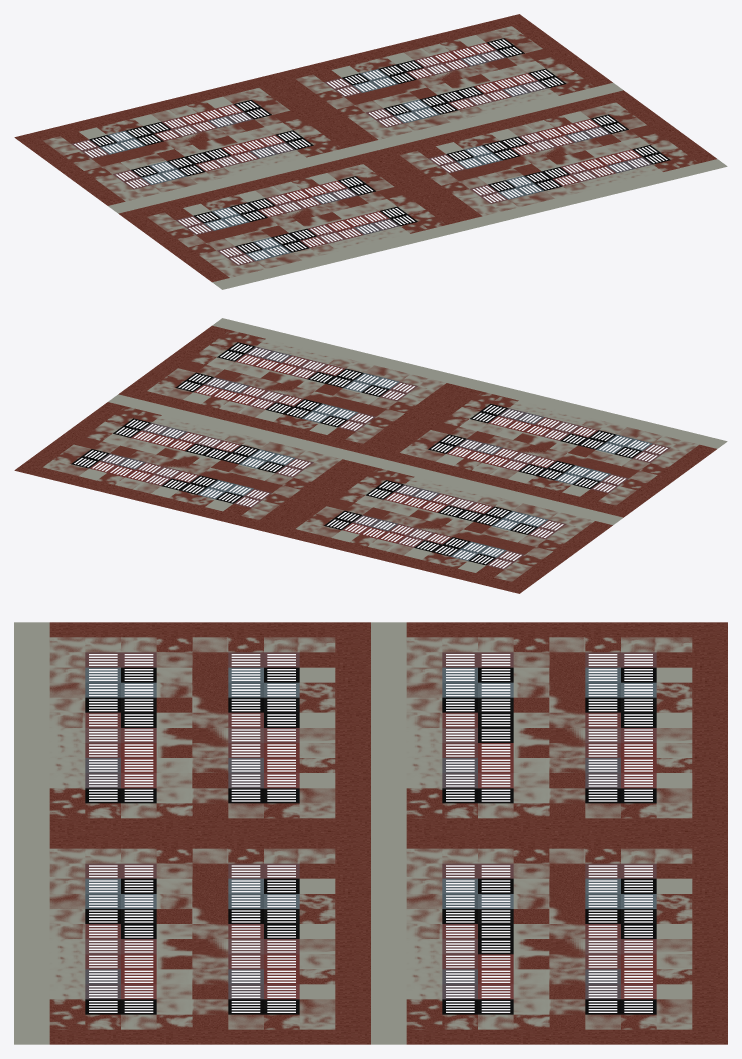
The model's file is floor.gltf.
The picture shows the model from 3 angles, top to bottom: view 1: azimuth 30°, elevation 25°; view 2: azimuth 150°, elevation 25°; view 3: azimuth 270°, elevation 25°; orthographic projection. The views are drawn at different scales.
Visible parts, largest first — view 1: metal_floor.004, metal_floor.003, metal_floor, metal_floor.002, drain.008, drain.003, drain.006, drain.001, drain.007, drain.004, drain.005, drain.002; view 2: metal_floor.004, metal_floor.003, metal_floor, metal_floor.002, drain.006, drain.001, drain.008, drain.003, drain.005, drain.002, drain.007, drain.004; view 3: metal_floor.004, metal_floor.003, metal_floor, metal_floor.002, drain.008, drain.007, drain.006, drain.005, drain.001, drain.002, drain.003, drain.004.
Boxes of the visible parts, x1,y1,x2,y2 form: metal_floor.004: [14, 75, 370, 213]; metal_floor.003: [118, 152, 474, 289]; metal_floor: [267, 14, 623, 151]; metal_floor.002: [371, 90, 727, 228]; drain.008: [71, 100, 271, 158]; drain.003: [470, 145, 670, 203]; drain.006: [217, 206, 417, 265]; drain.001: [324, 38, 524, 97]; drain.007: [113, 130, 313, 189]; drain.004: [428, 114, 628, 173]; drain.005: [175, 176, 375, 235]; drain.002: [366, 68, 566, 127]; metal_floor.004: [267, 456, 623, 593]; metal_floor.003: [371, 379, 727, 517]; metal_floor: [14, 394, 370, 532]; metal_floor.002: [118, 318, 474, 455]; drain.006: [470, 404, 670, 462]; drain.001: [71, 449, 271, 507]; drain.008: [324, 510, 524, 569]; drain.003: [217, 342, 417, 401]; drain.005: [428, 434, 628, 493]; drain.002: [113, 418, 313, 477]; drain.007: [366, 480, 566, 539]; drain.004: [175, 372, 375, 431]; metal_floor.004: [371, 622, 727, 833]; metal_floor.003: [14, 622, 370, 833]; metal_floor: [371, 833, 727, 1044]; metal_floor.002: [14, 833, 370, 1044]; drain.008: [585, 652, 656, 803]; drain.007: [442, 652, 513, 803]; drain.006: [85, 652, 156, 803]; drain.005: [228, 652, 299, 803]; drain.001: [585, 863, 656, 1014]; drain.002: [442, 863, 513, 1014]; drain.003: [85, 863, 156, 1014]; drain.004: [228, 863, 299, 1014].
Bounding box in the file's own units: 28 × 0 × 20.
8 materials, 8 textured.
